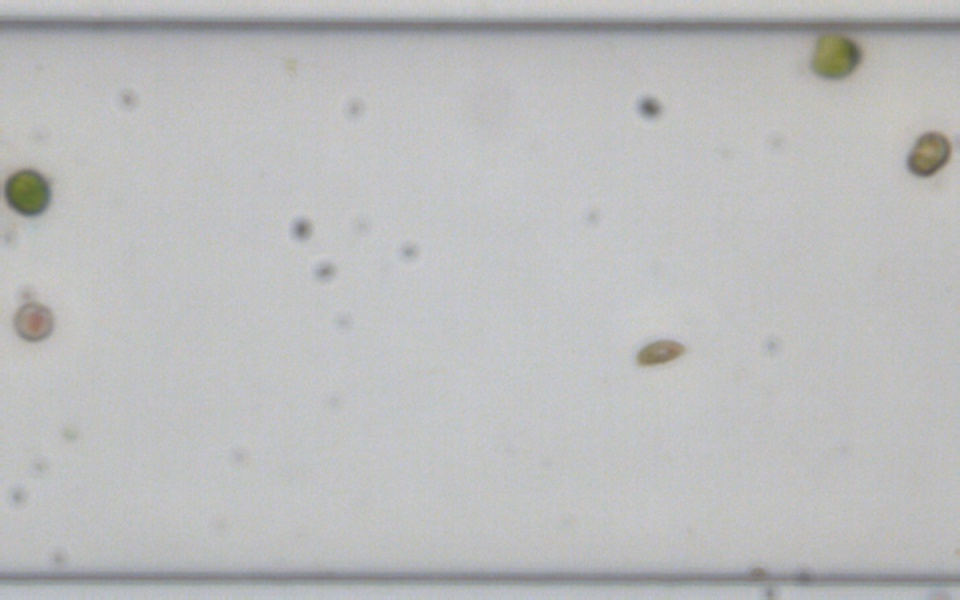Dunaliella salina: (632, 336, 687, 368)
Effrenium: (904, 128, 951, 178)
Platymonas: (0, 165, 54, 219), (806, 29, 863, 80)
Porphyridium: (10, 300, 55, 342)
